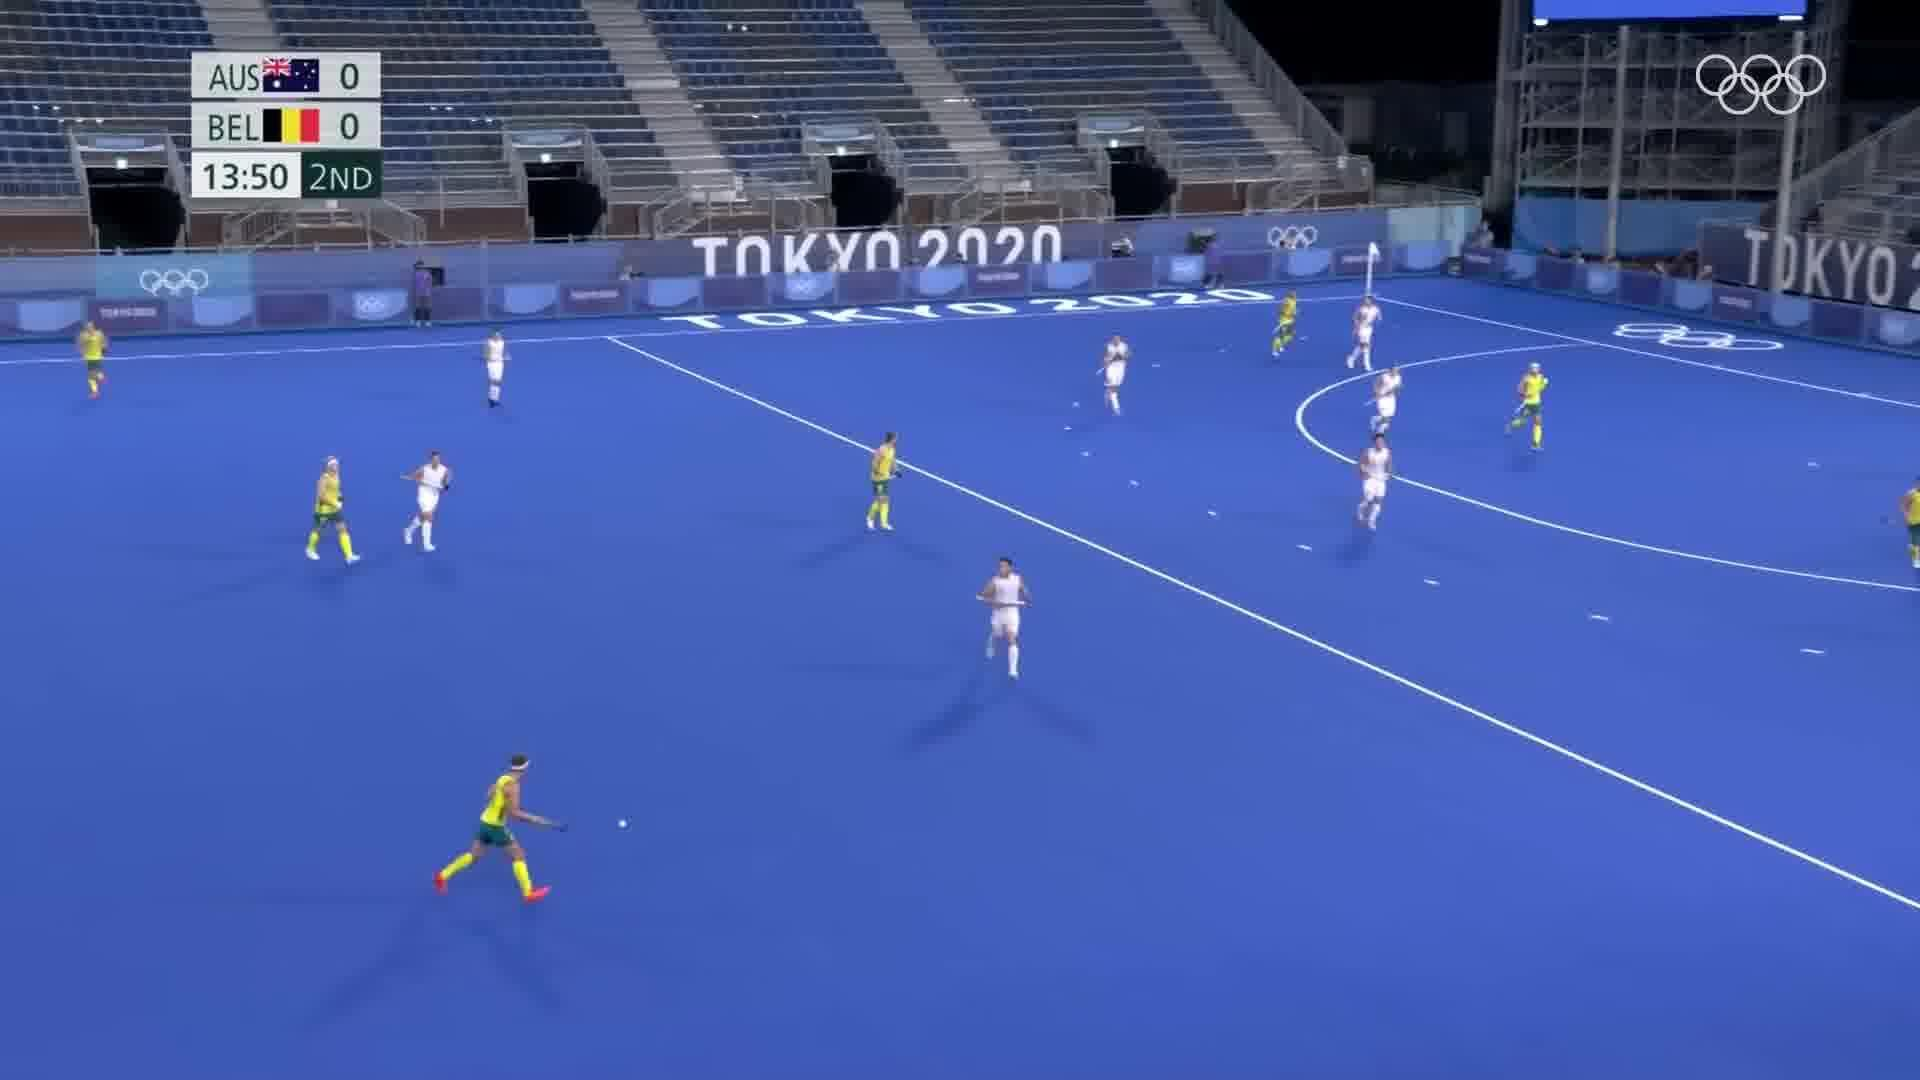ball: (607, 812, 640, 841)
